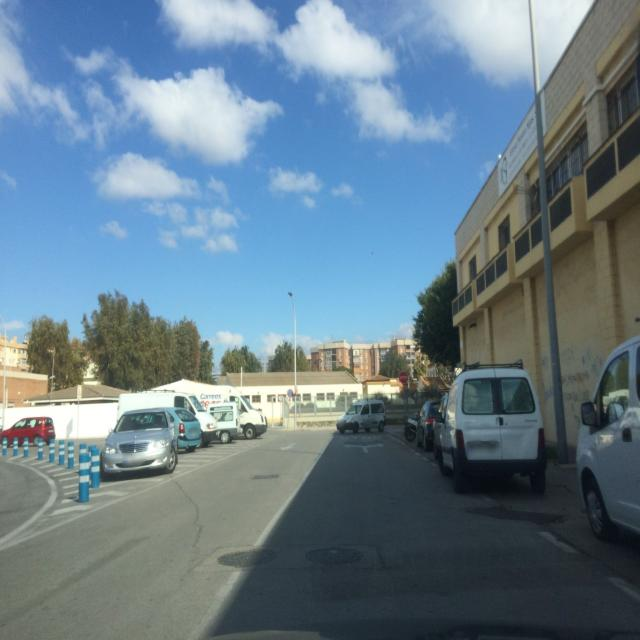forb_stopping: (287, 389, 293, 397)
